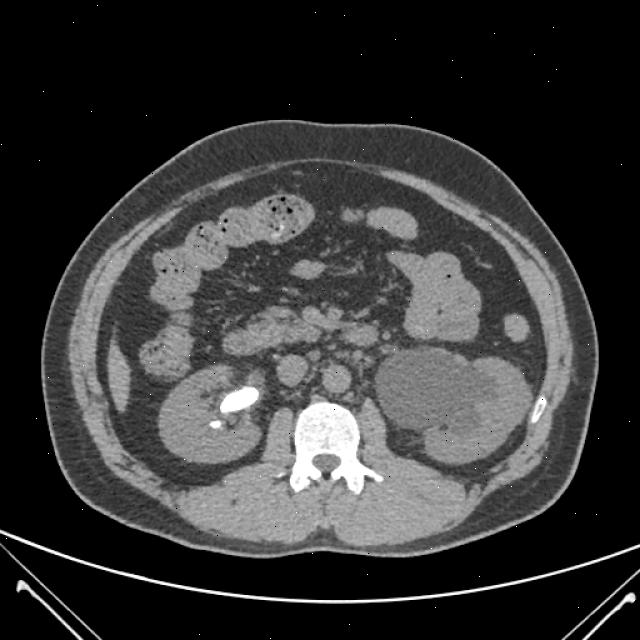kidneystone: (220, 386, 259, 413), (209, 420, 221, 429)
